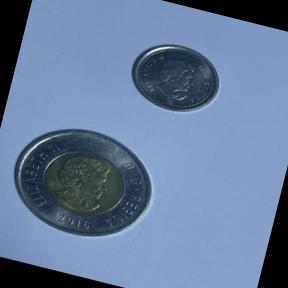Canada-10cent-B: (120, 31, 231, 124)
Canada-2Dollar-B: (0, 109, 169, 258)
